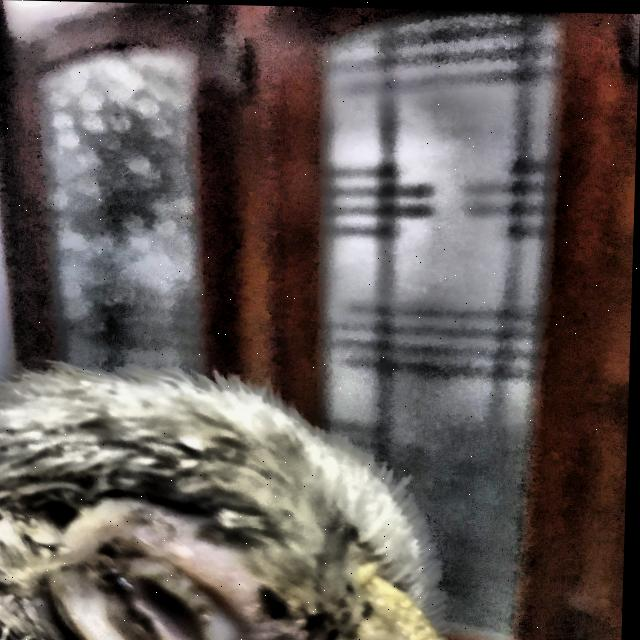Coryza: (0, 334, 523, 640)
